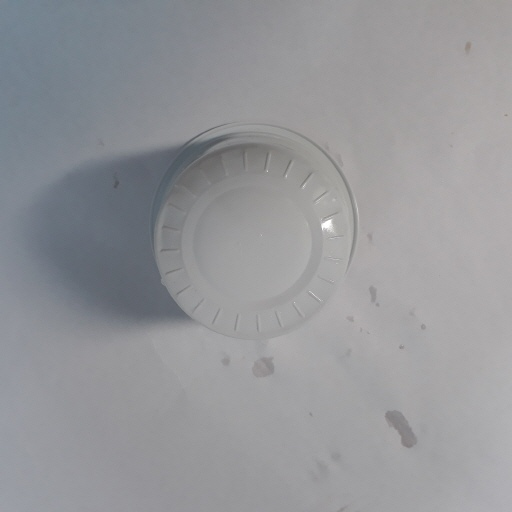Plastic_5: (148, 118, 361, 342)
